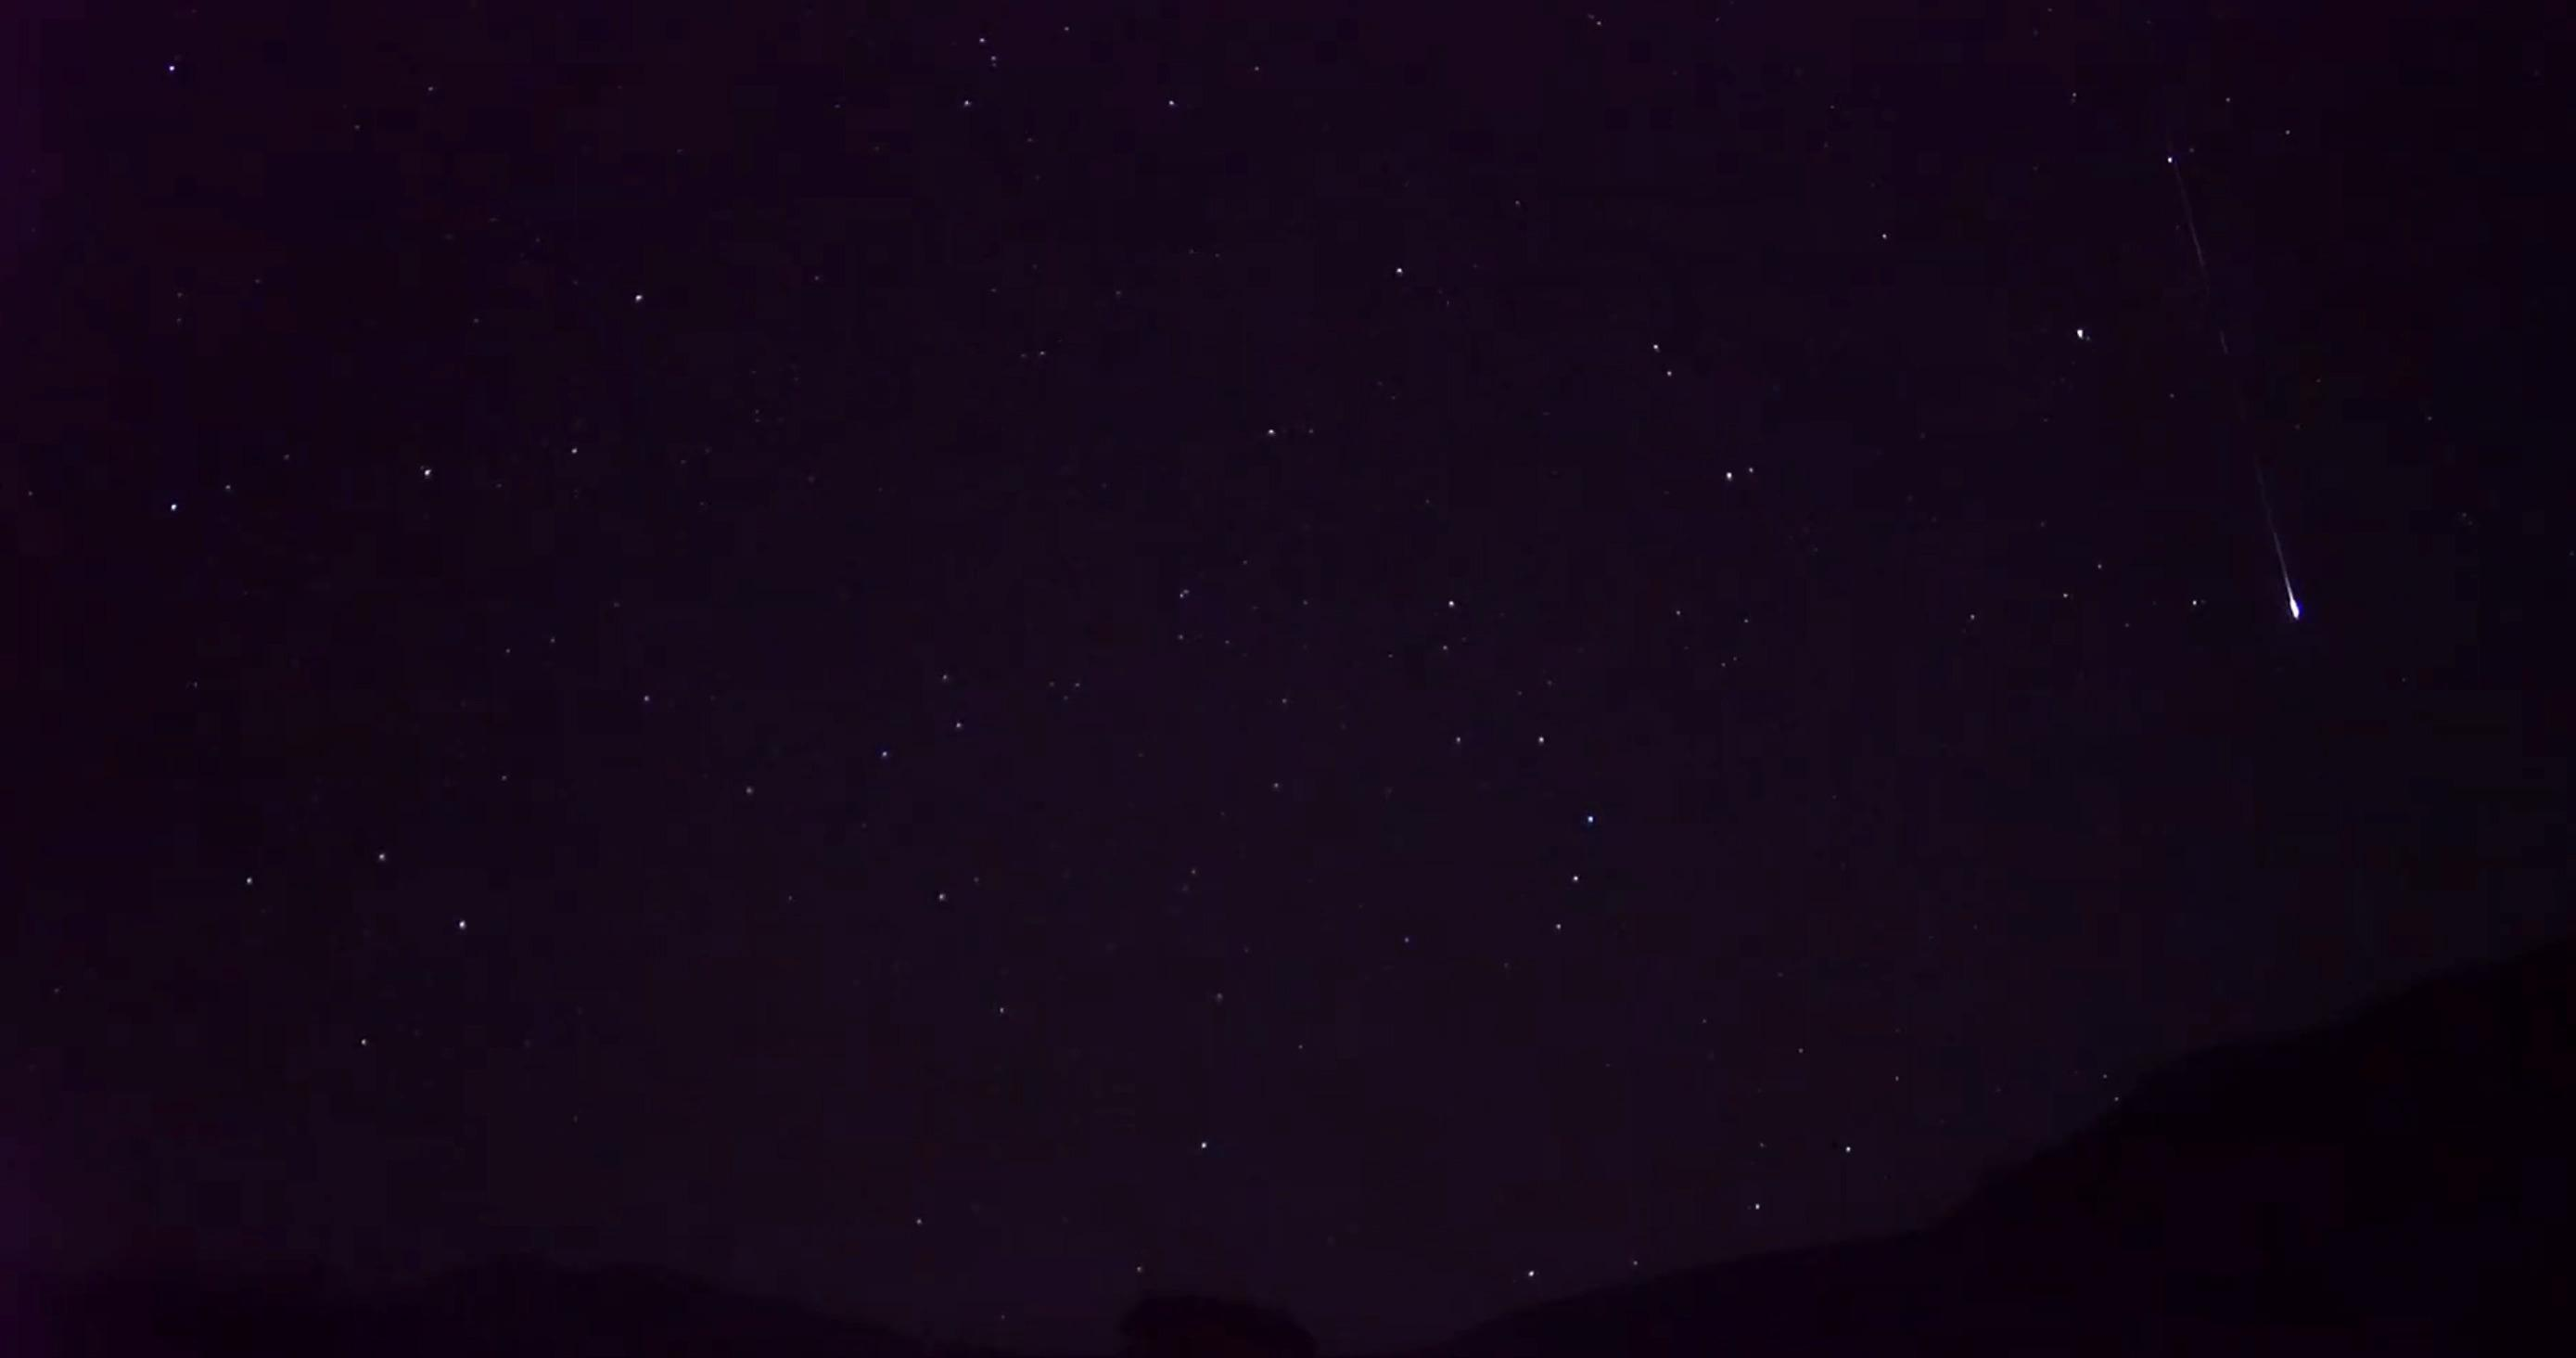meteorite: (2217, 457, 2351, 642)
